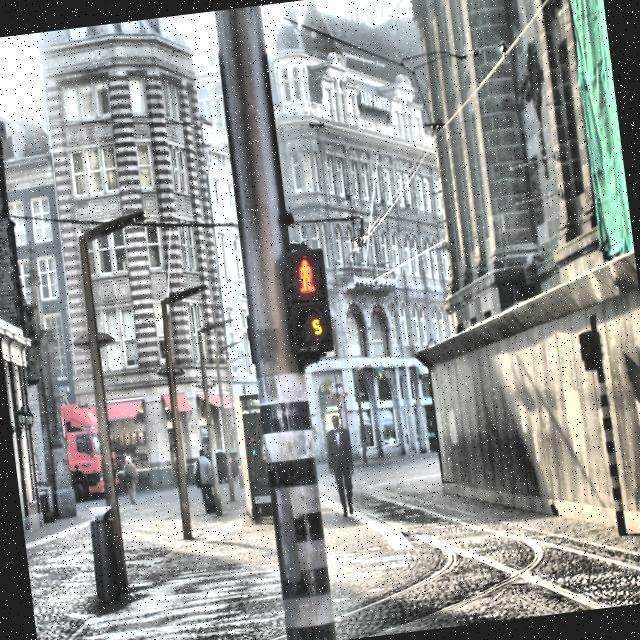red_light: (294, 256, 317, 296)
